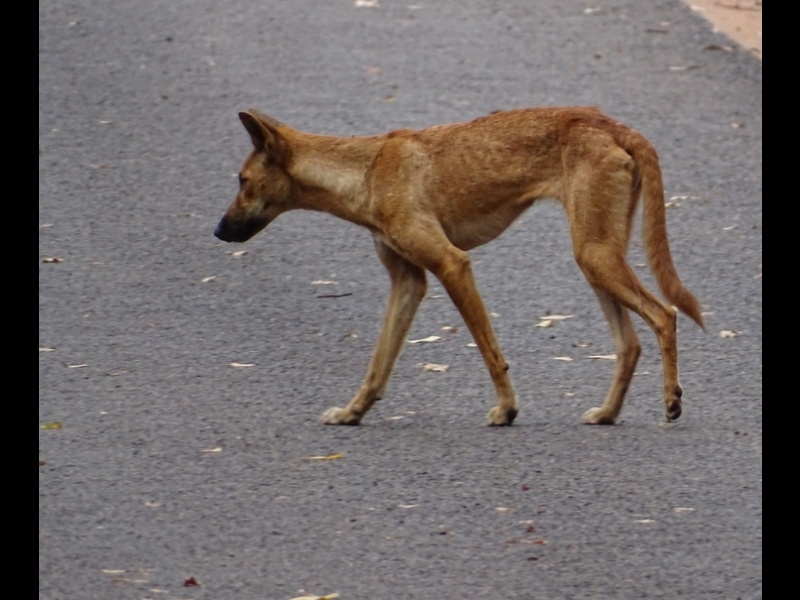dog: (213, 101, 707, 435)
